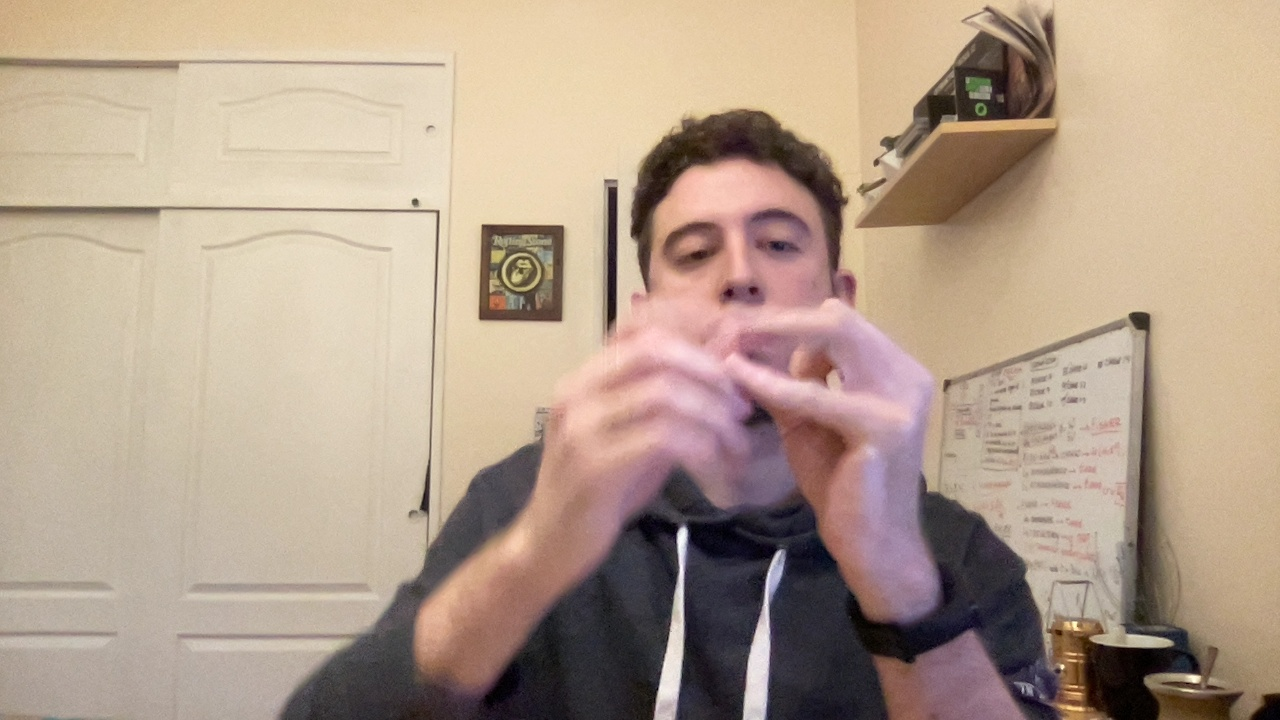cerrado: (506, 306, 753, 537)
